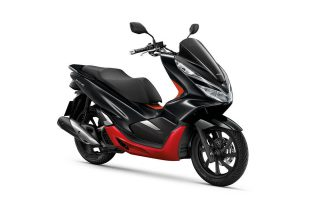motorcycle: (58, 23, 250, 187)
